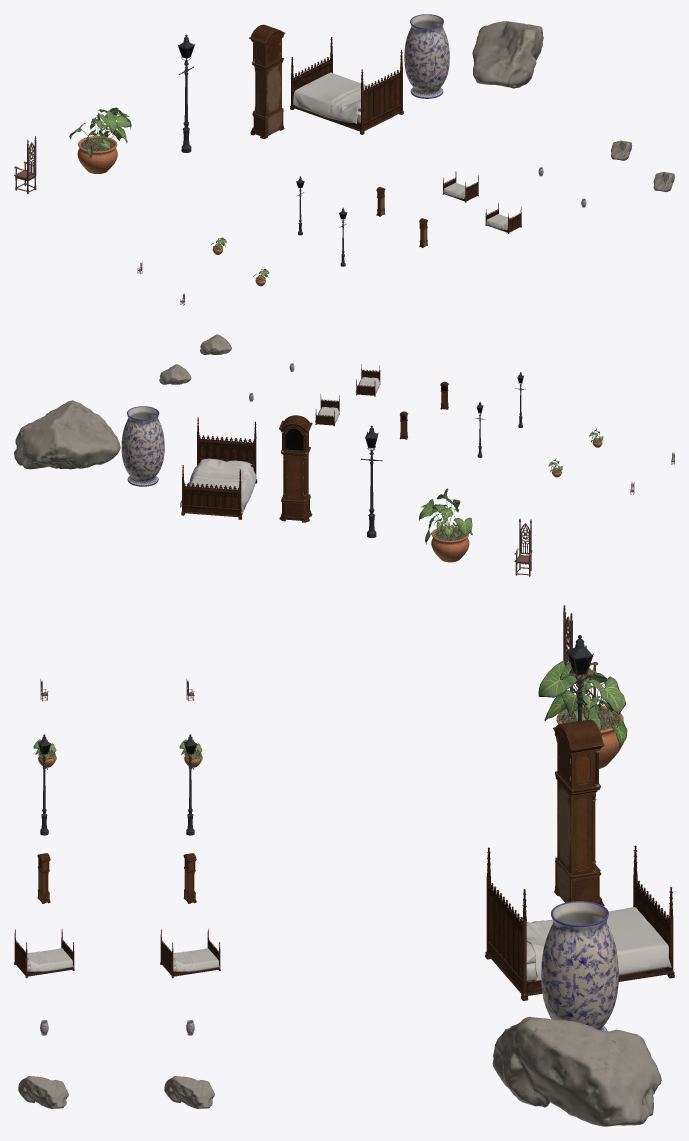
Rendered from asset_gallery.glb.
3 renders of one model, top to bottom at view 1: azimuth 30°, elevation 25°; view 2: azimuth 150°, elevation 25°; view 3: azimuth 270°, elevation 25°, orthographic. The views are drawn at different scales.
Visible parts, largest first — view 1: GothicBed_01_big, moon_rock_03_big, antique_ceramic_vase_01_big, vintage_grandfather_clock_01_big, potted_plant_02_big, street_lamp_01_big, WoodenChair_01_big, GothicBed_01_raw, GothicBed_01_tint; view 2: moon_rock_03_big, GothicBed_01_big, antique_ceramic_vase_01_big, vintage_grandfather_clock_01_big, potted_plant_02_big, WoodenChair_01_big, street_lamp_01_big, GothicBed_01_tint, GothicBed_01_raw, moon_rock_03_tint, moon_rock_03_raw; view 3: moon_rock_03_big, GothicBed_01_big, antique_ceramic_vase_01_big, vintage_grandfather_clock_01_big, potted_plant_02_big, GothicBed_01_tint, GothicBed_01_raw, moon_rock_03_raw, moon_rock_03_tint, street_lamp_01_big.
Boxes of the visible parts, x1=… form: GothicBed_01_big: x1=290, y1=37, x2=403, y2=134; moon_rock_03_big: x1=472, y1=21, x2=543, y2=88; antique_ceramic_vase_01_big: x1=404, y1=14, x2=449, y2=98; vintage_grandfather_clock_01_big: x1=249, y1=24, x2=285, y2=139; potted_plant_02_big: x1=69, y1=107, x2=131, y2=173; street_lamp_01_big: x1=177, y1=34, x2=194, y2=152; WoodenChair_01_big: x1=14, y1=136, x2=36, y2=193; GothicBed_01_raw: x1=485, y1=203, x2=521, y2=233; GothicBed_01_tint: x1=442, y1=171, x2=478, y2=202; moon_rock_03_big: x1=14, y1=400, x2=120, y2=469; GothicBed_01_big: x1=180, y1=417, x2=257, y2=519; antique_ceramic_vase_01_big: x1=121, y1=406, x2=164, y2=486; vintage_grandfather_clock_01_big: x1=279, y1=415, x2=312, y2=522; potted_plant_02_big: x1=419, y1=488, x2=472, y2=562; WoodenChair_01_big: x1=514, y1=518, x2=532, y2=576; street_lamp_01_big: x1=361, y1=425, x2=382, y2=537; GothicBed_01_tint: x1=315, y1=394, x2=339, y2=426; GothicBed_01_raw: x1=355, y1=364, x2=380, y2=396; moon_rock_03_tint: x1=159, y1=364, x2=191, y2=384; moon_rock_03_raw: x1=200, y1=334, x2=231, y2=354; moon_rock_03_big: x1=492, y1=1016, x2=661, y2=1126; GothicBed_01_big: x1=485, y1=845, x2=674, y2=1000; antique_ceramic_vase_01_big: x1=541, y1=901, x2=618, y2=1031; vintage_grandfather_clock_01_big: x1=553, y1=719, x2=604, y2=905; potted_plant_02_big: x1=538, y1=660, x2=627, y2=768; GothicBed_01_tint: x1=160, y1=928, x2=220, y2=978; GothicBed_01_raw: x1=14, y1=928, x2=74, y2=978; moon_rock_03_raw: x1=18, y1=1076, x2=68, y2=1108; moon_rock_03_tint: x1=164, y1=1076, x2=214, y2=1108; street_lamp_01_big: x1=566, y1=635, x2=593, y2=721.
Size of what is drawn, in the model's own units: 43.41 by 9 by 27.15.
11 materials, 11 textured.
